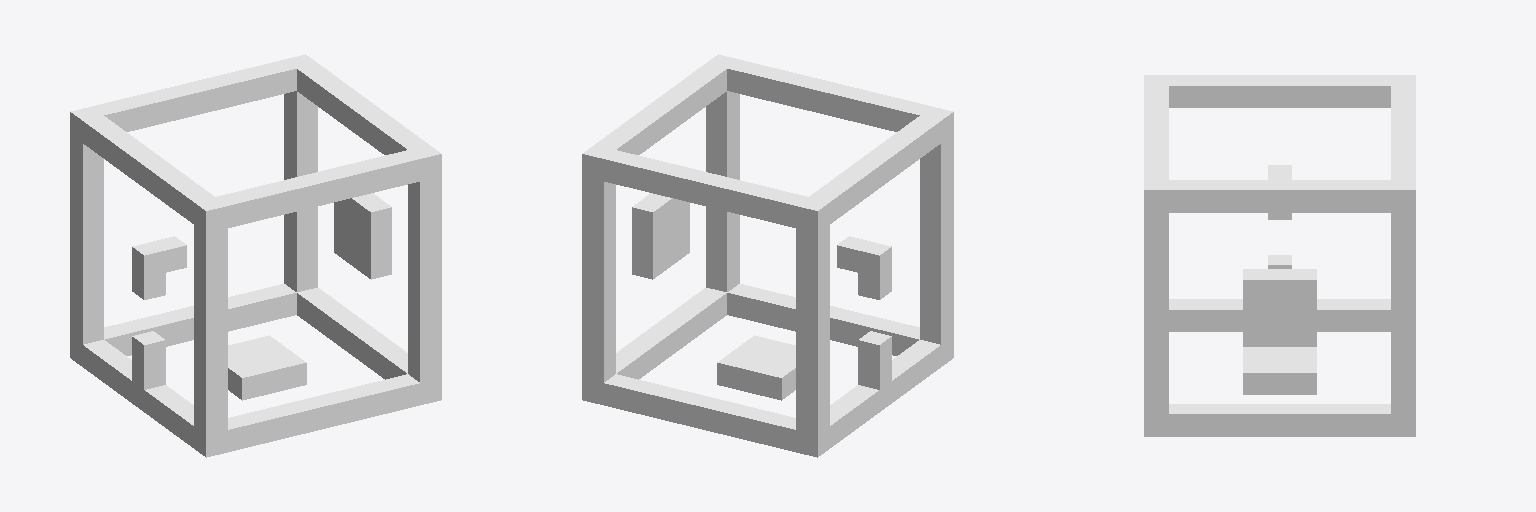
The model's file is level_01.obj.
3 views of the same model, side by side, from view 1: azimuth 30°, elevation 25°; view 2: azimuth 150°, elevation 25°; view 3: azimuth 270°, elevation 25° (orthographic).
Parts seen in each view (by area): view 1: object 1; view 2: object 1; view 3: object 1.
Part boxes in pixels (x1,y1,x2,y2): object 1: (70,54,441,457); object 1: (582,54,953,457); object 1: (1144,75,1415,436).
Size of the model in its own units: 1.1 by 1.1 by 1.1.